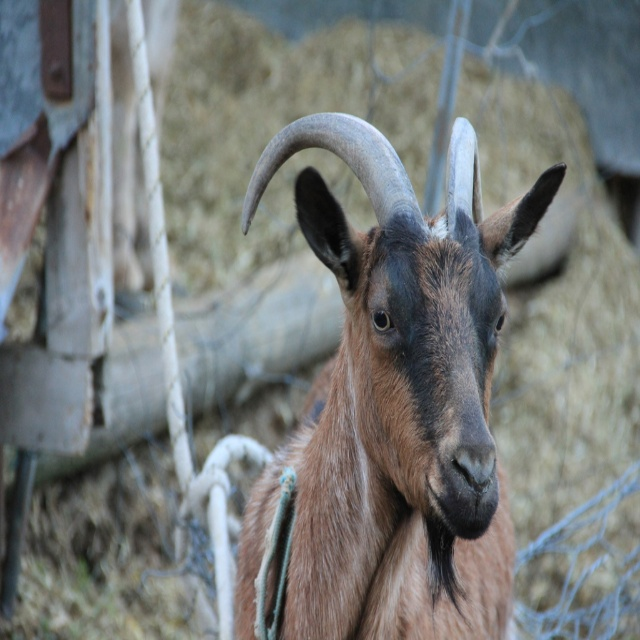Goat: (233, 111, 568, 640)
